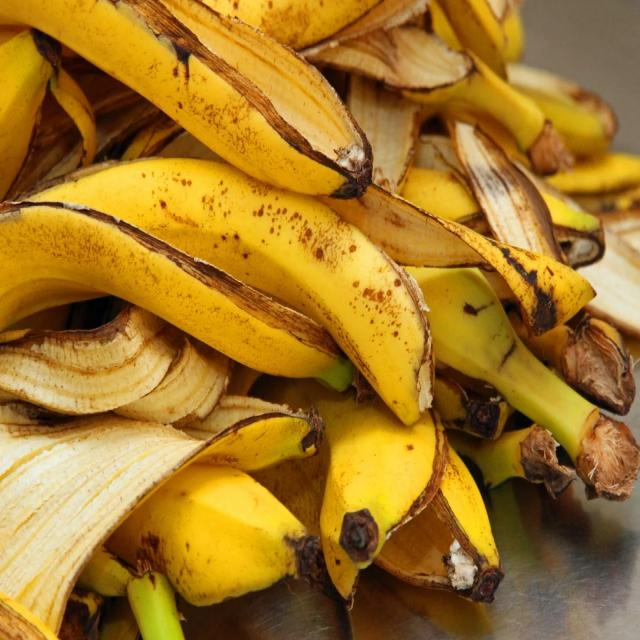banana_peel: (4, 7, 638, 633), (4, 131, 474, 467), (14, 5, 400, 246)
